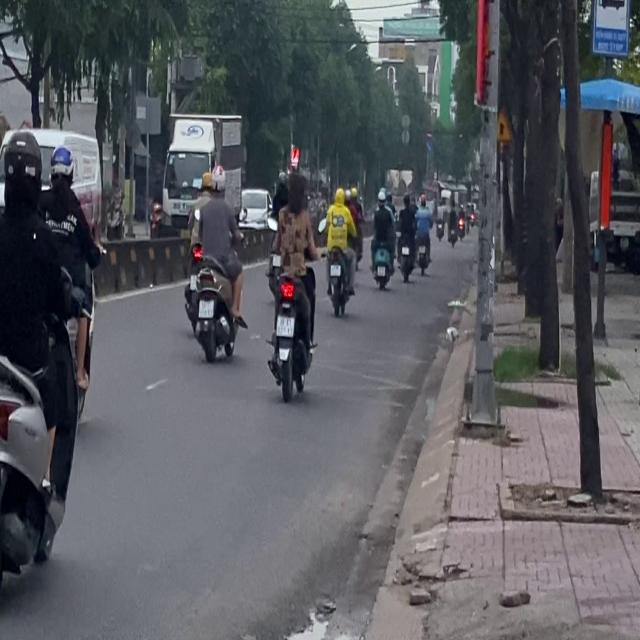helmet: (0, 125, 44, 210), (49, 144, 74, 185), (210, 164, 226, 194)
licenseplate: (0, 115, 86, 611), (265, 163, 317, 399), (189, 164, 245, 362)
motorcyclist: (285, 169, 307, 210)
nohelmet: (276, 316, 294, 336), (198, 299, 214, 317)
